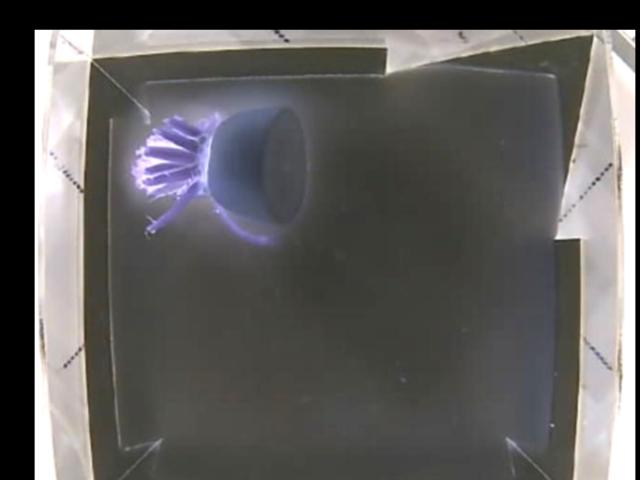Mooli: (135, 103, 305, 244)
